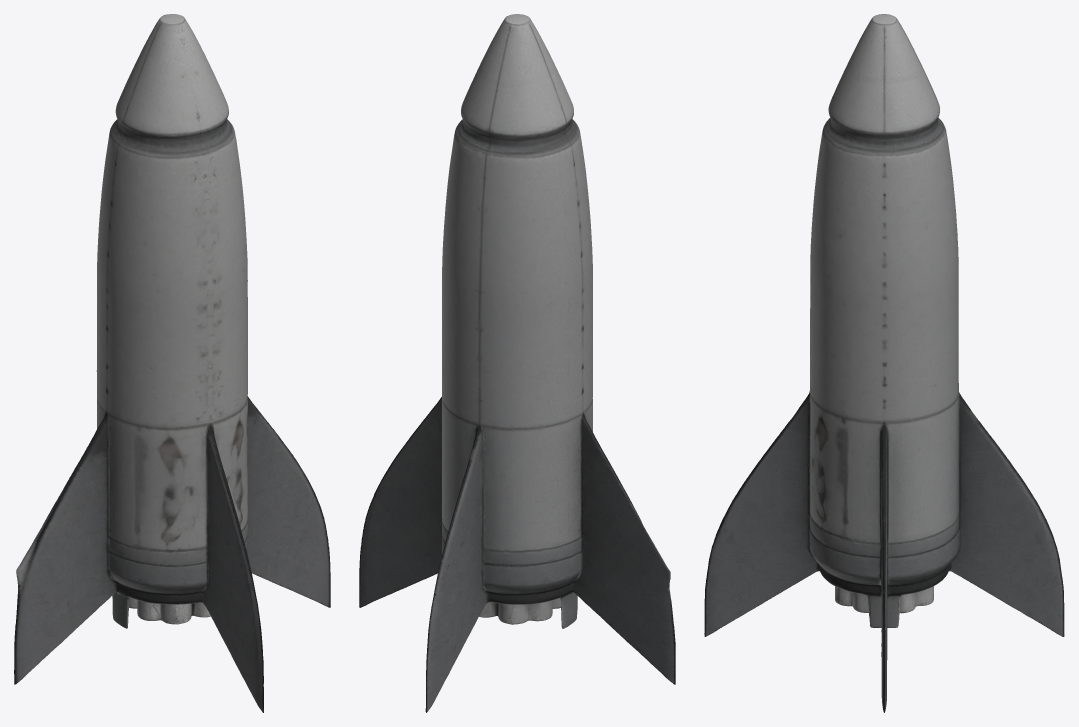
Rendered from rocket.glb.
The picture shows the model from 3 angles, left to right: view 1: azimuth 30°, elevation 25°; view 2: azimuth 150°, elevation 25°; view 3: azimuth 270°, elevation 25°; orthographic projection.
Bounding box in the file's own units: 1 × 1.9 × 1.
Materials: 1 (1 with a texture image).
